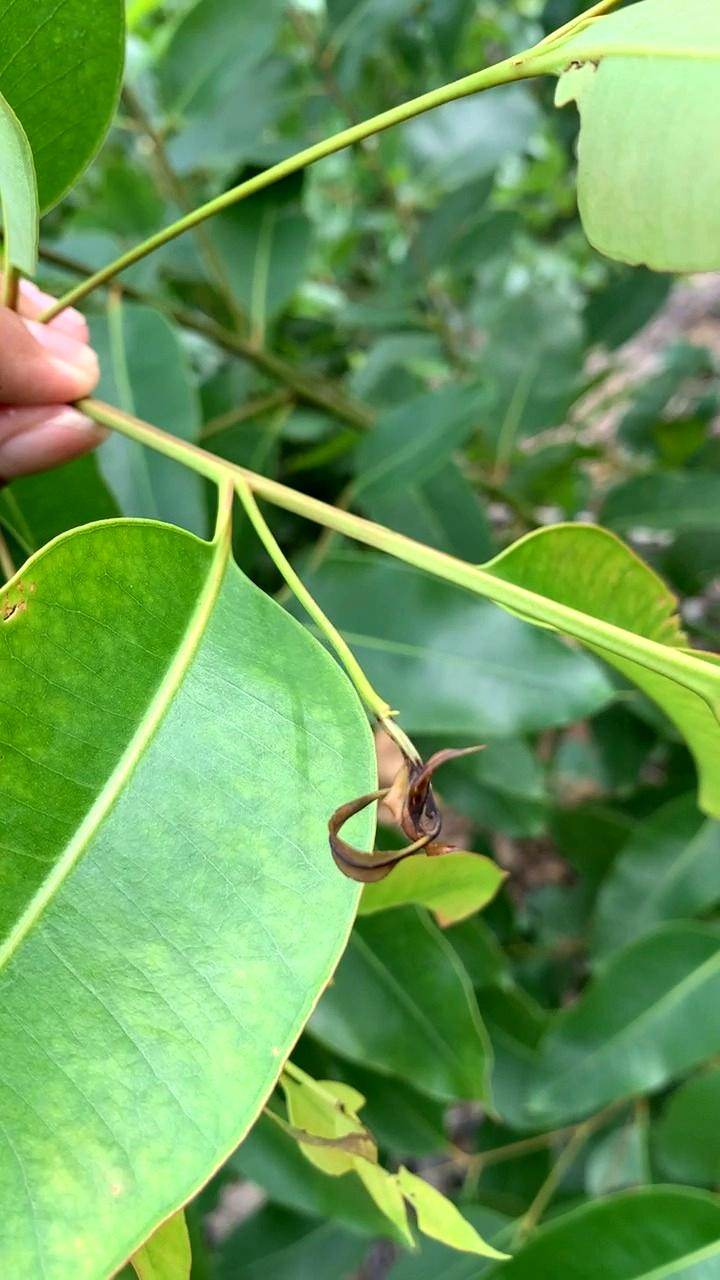Helopeltis-Withered Sprout: (305, 738, 507, 899)
